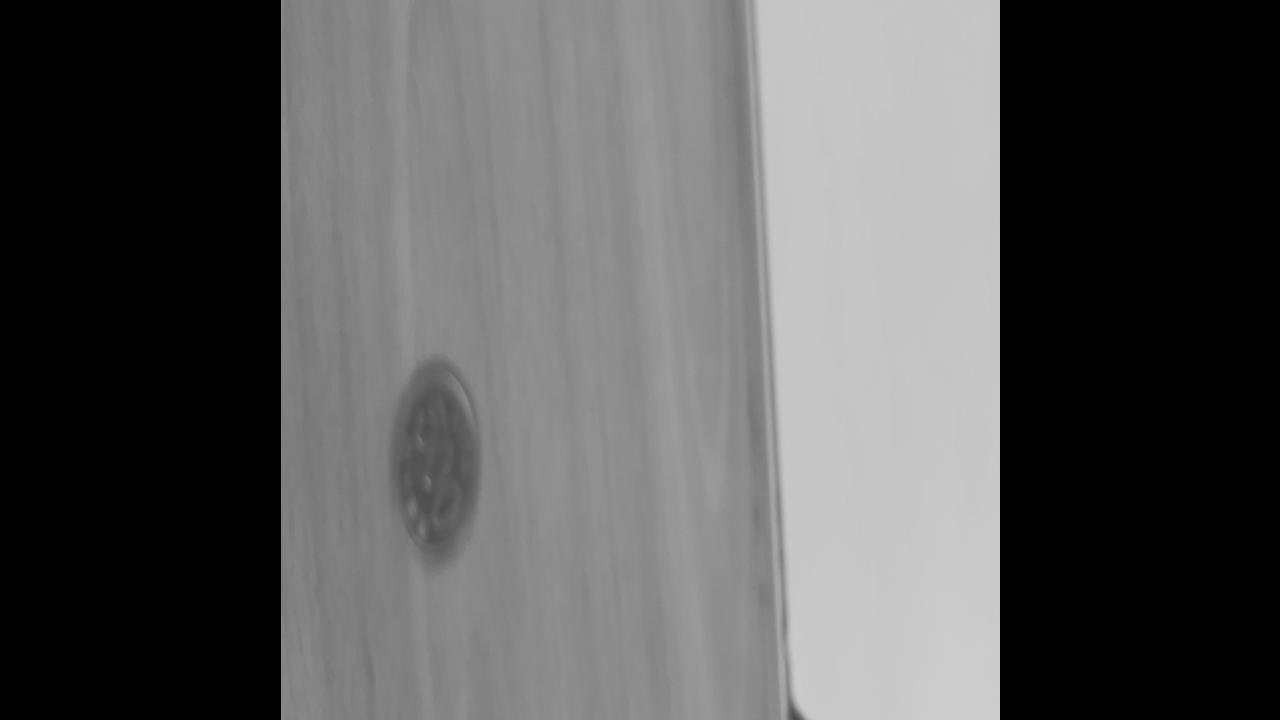coin: (390, 360, 480, 570)
